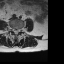CCS_normal: (15, 27, 17, 35)
LFS_normal: (19, 27, 21, 33)
LLS_normal: (17, 28, 19, 34)
RFS_normal: (11, 26, 13, 32)
RLS_normal: (13, 27, 15, 35)
